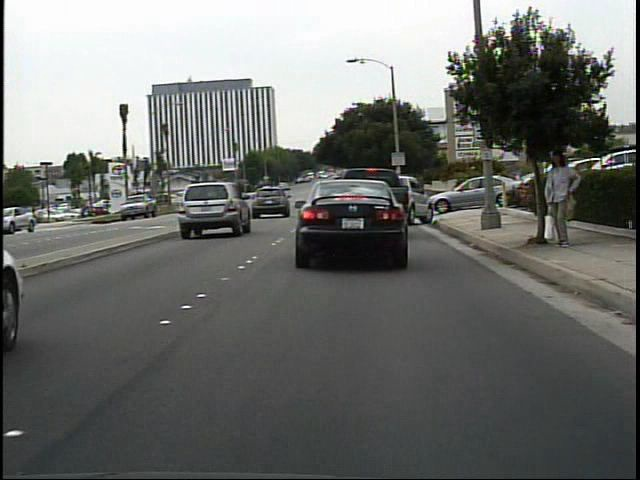person: (541, 144, 583, 250)
